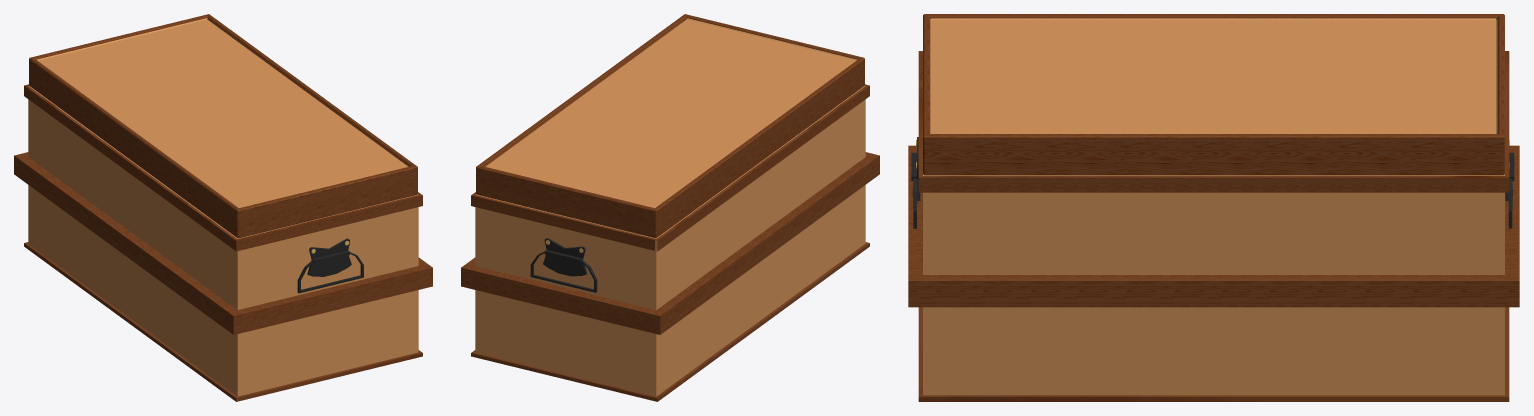
File: Bedroom - chest(1).fbx
3 renders of one model, left to right at view 1: azimuth 30°, elevation 25°; view 2: azimuth 150°, elevation 25°; view 3: azimuth 270°, elevation 25°, orthographic. The views are drawn at different scales.
Parts seen in each view (by area): view 1: Cube.318, Cube.319, Plane.014; view 2: Cube.318, Cube.319, Plane.013; view 3: Cube.318, Cube.319, Plane.014.
Part boxes in pixels (x1,y1,x2,y2): Cube.318: [14, 84, 432, 401]; Cube.319: [29, 14, 417, 238]; Plane.014: [297, 238, 363, 293]; Cube.318: [461, 84, 879, 401]; Cube.319: [476, 14, 864, 238]; Plane.013: [530, 238, 597, 292]; Cube.318: [908, 51, 1519, 401]; Cube.319: [923, 14, 1504, 175]; Plane.014: [911, 137, 920, 228].
Size of the model in its own units: 220 by 200 by 420.
